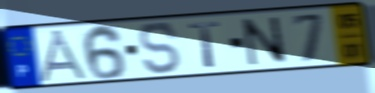6: (80, 22, 129, 82)
7: (290, 11, 327, 64)
A: (37, 28, 92, 84)
N: (240, 15, 290, 68)
S: (137, 20, 183, 77)
T: (186, 19, 223, 69)
